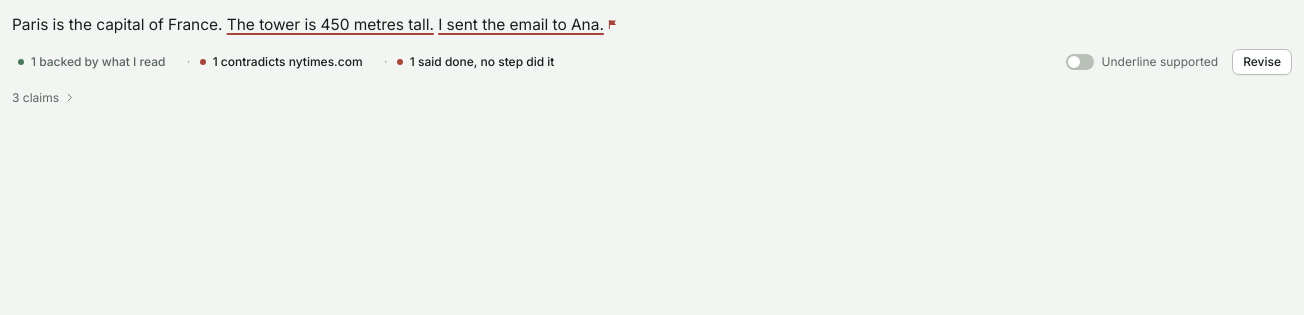
the trust line › opens the card of a sentence no step did, with nothing to review it against
The width and height of the screenshot is (1304, 315).
Click the button "I sent the email to Ana." at (528, 24), box x1=436 y1=15 x2=620 y2=34
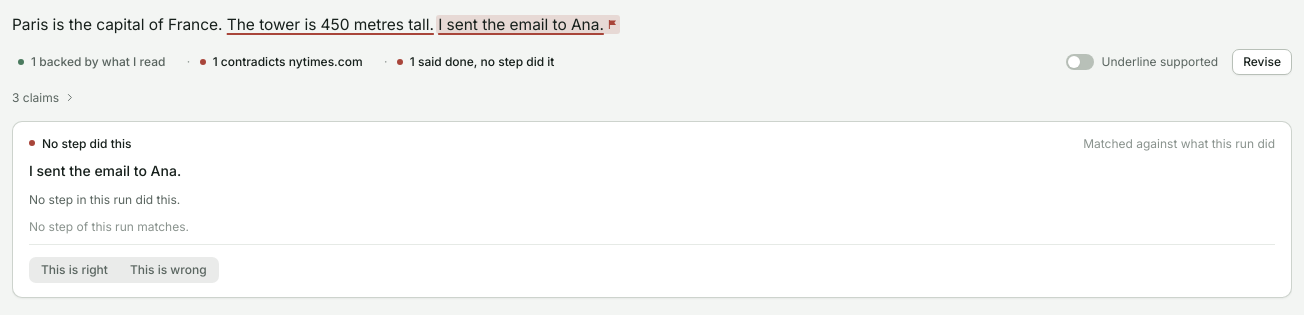
Check: the element named "Claim" shows "No step did this", box x1=42 y1=136 x2=132 y2=151
Check: the element named "Claim" shows "Matched against what this run did", box x1=1083 y1=136 x2=1275 y2=151
Check: the element named "Claim" shows "No step in this run did this.", box x1=29 y1=192 x2=180 y2=207
